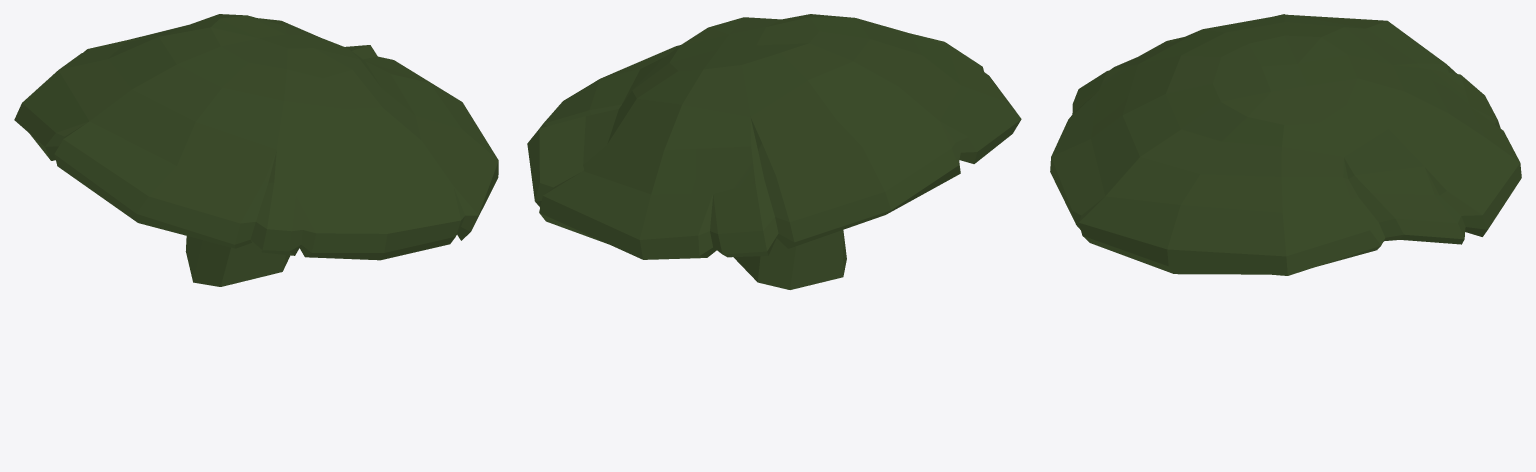
File: enchanted_SM_Env_Mushroom_Small_02.gltf
3 views of the same model, side by side, from view 1: azimuth 30°, elevation 25°; view 2: azimuth 150°, elevation 25°; view 3: azimuth 270°, elevation 25° (orthographic). The views are drawn at different scales.
Parts seen in each view (by area): view 1: SM_Env_Mushroom_Small_02_LOD0; view 2: SM_Env_Mushroom_Small_02_LOD0; view 3: SM_Env_Mushroom_Small_02_LOD0.
Part boxes in pixels (left/top/right/bottom): SM_Env_Mushroom_Small_02_LOD0: left=14, top=14, right=498, bottom=286; SM_Env_Mushroom_Small_02_LOD0: left=527, top=14, right=1021, bottom=289; SM_Env_Mushroom_Small_02_LOD0: left=1050, top=14, right=1521, bottom=275.
Size of what is drawn, in the model's own units: 1.01 by 0.9412 by 1.06.
Materials: 1 (1 with a texture image).
